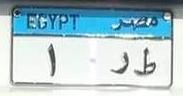1: (45, 41, 59, 78)
Taa: (134, 45, 158, 78)
raa: (107, 49, 131, 77)
